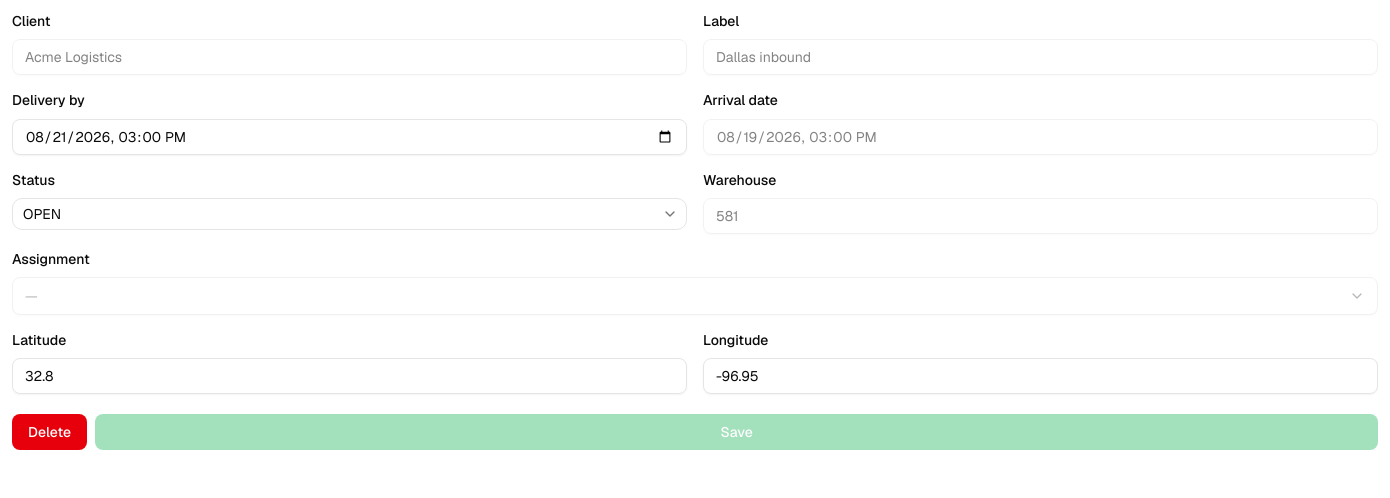
Test: ShipmentForm › shows an error when save fails
The width and height of the screenshot is (1390, 498).
Replace the text in the field labelled "Latitude" with "33.1" at (350, 376), box [12,358,687,394]
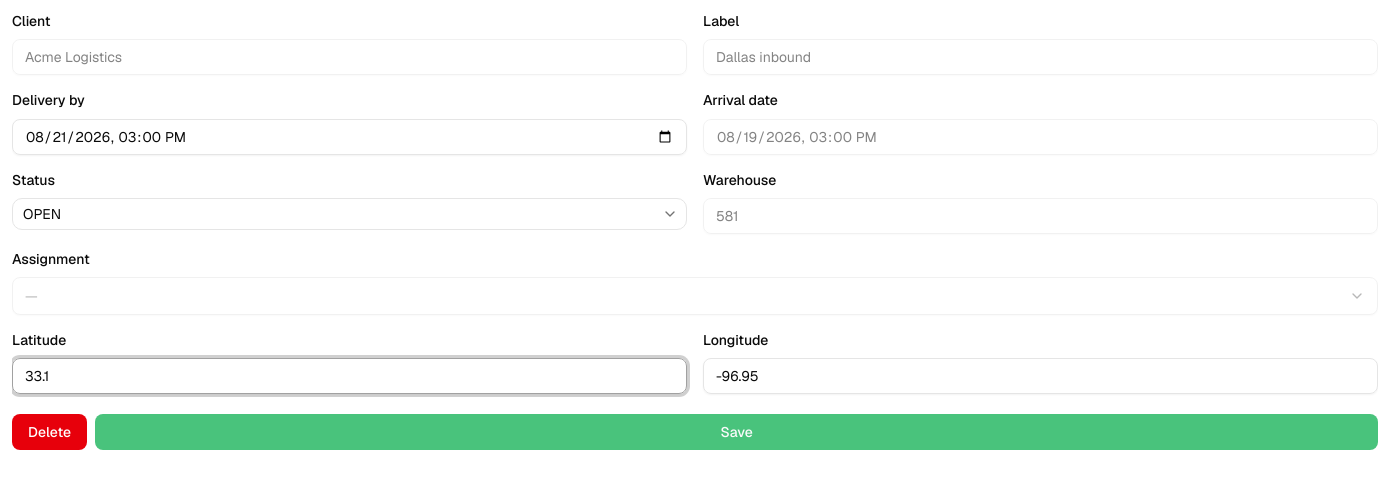
Click the button "Save".
click(737, 432)  # box [95,414,1378,450]
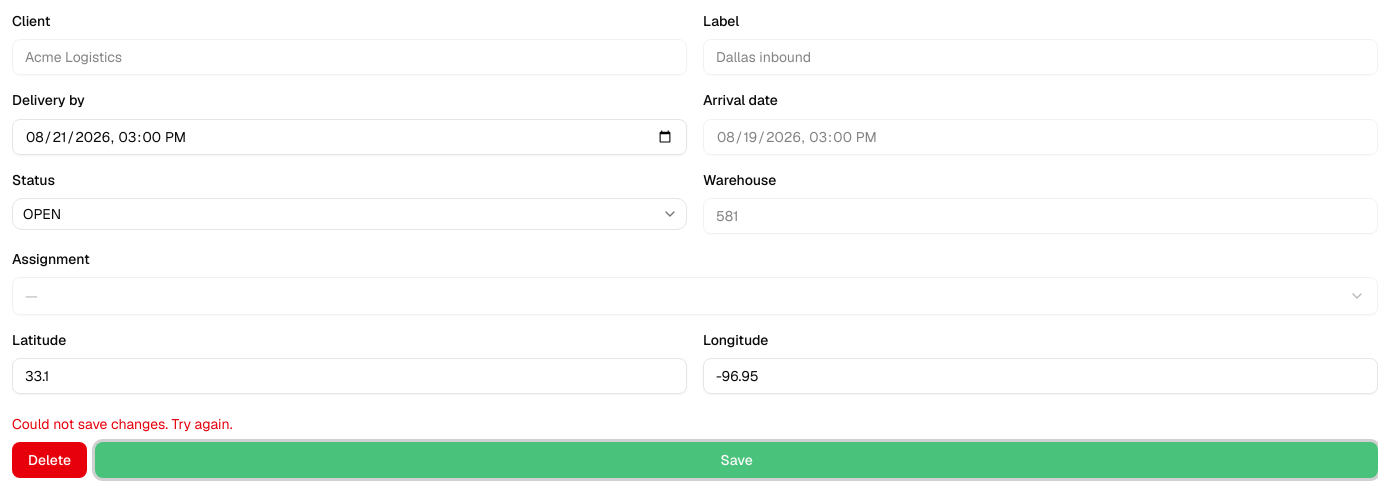
Check: the text "Could not save changes. Try again." is shown, box [12,415,232,433]
